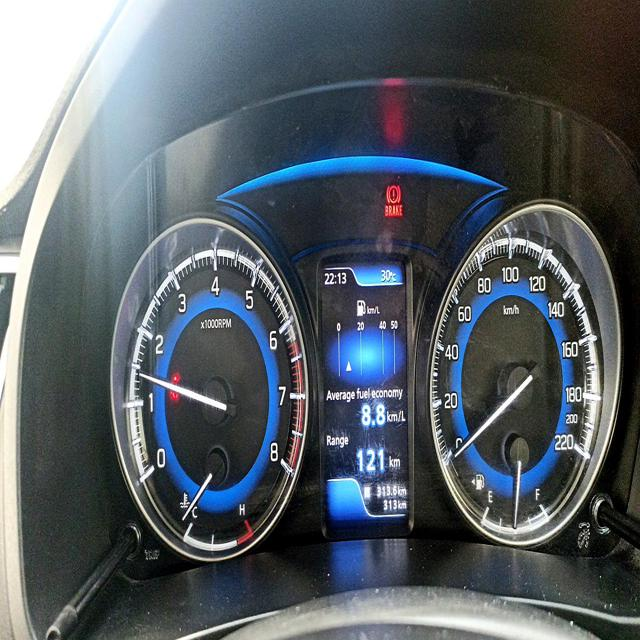odometer: (381, 497, 398, 511)
